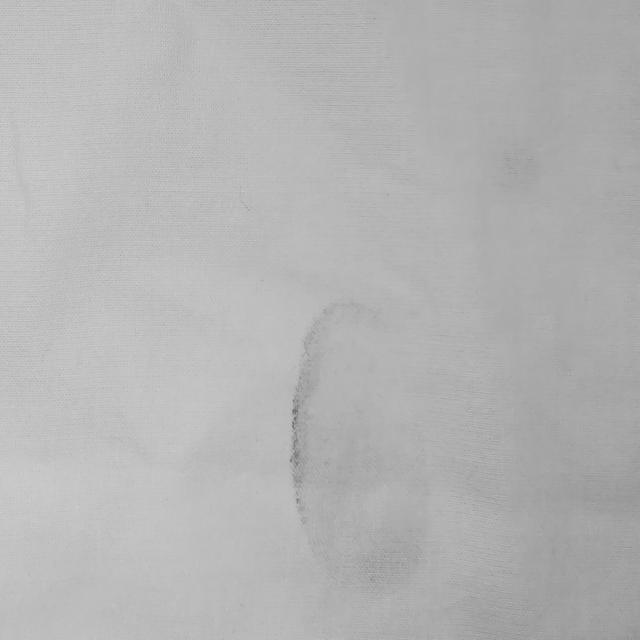Stain: (291, 303, 427, 586)
